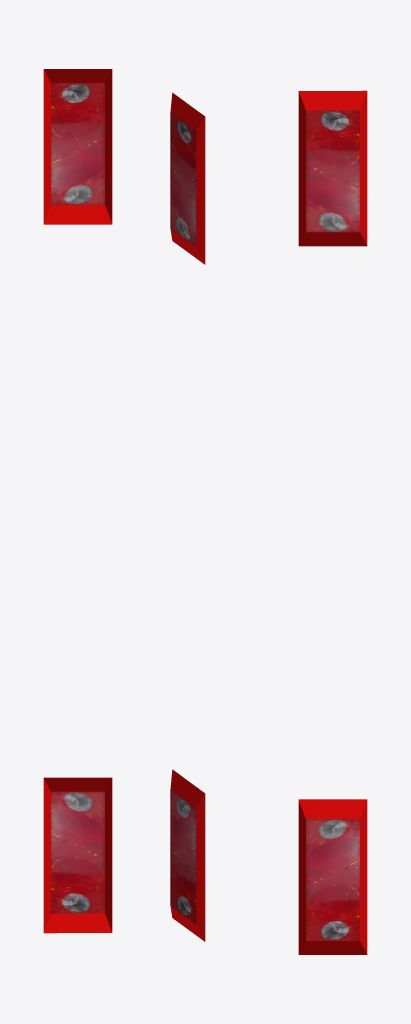
File: brakes_on.obj
The picture shows the model from 3 angles, left to right: view 1: azimuth 90°, elevation 25°; view 2: azimuth 210°, elevation 25°; view 3: azimuth 270°, elevation 25°; orthographic projection. The views are drawn at different scales.
Parts seen in each view (by area): view 1: glow; view 2: glow; view 3: glow.
Boxes of the visible parts, box(x1,y1,x2,y2) form: glow: box(43, 69, 112, 933); glow: box(170, 92, 205, 941); glow: box(298, 90, 367, 954).
Size of the model in its own units: 0.0811 by 2.75 by 0.3178.
1 material, 1 textured.
